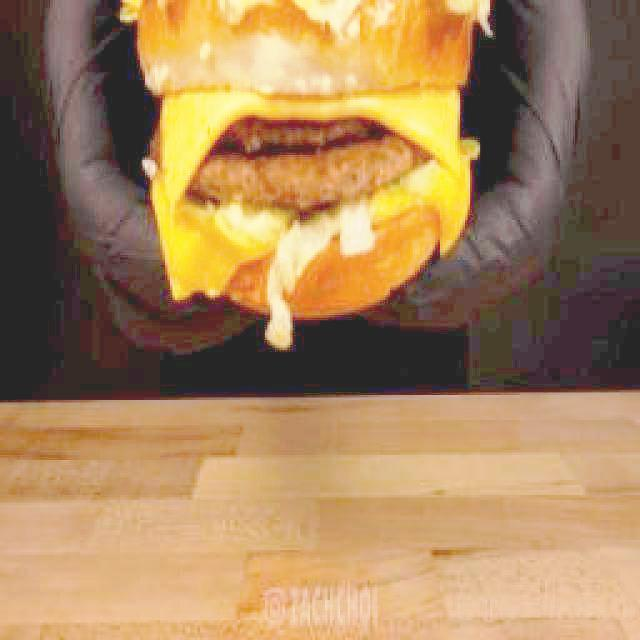burger: (125, 0, 482, 341)
